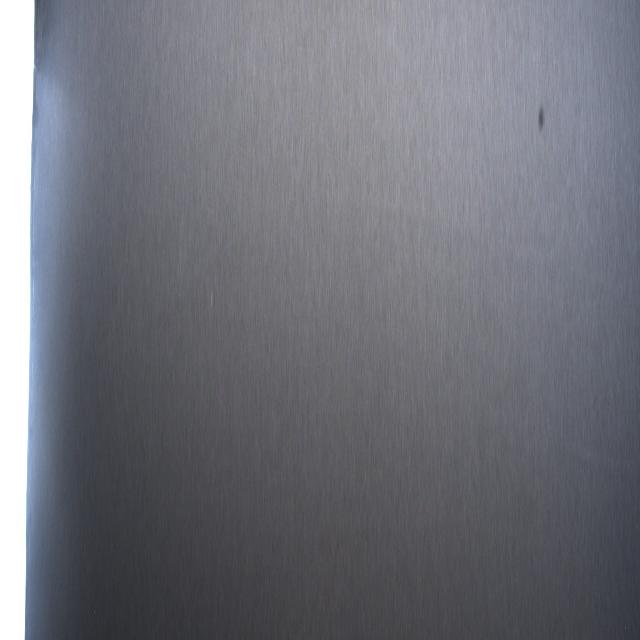crease: (550, 419, 637, 503)
whiteDefect: (210, 285, 213, 309)
